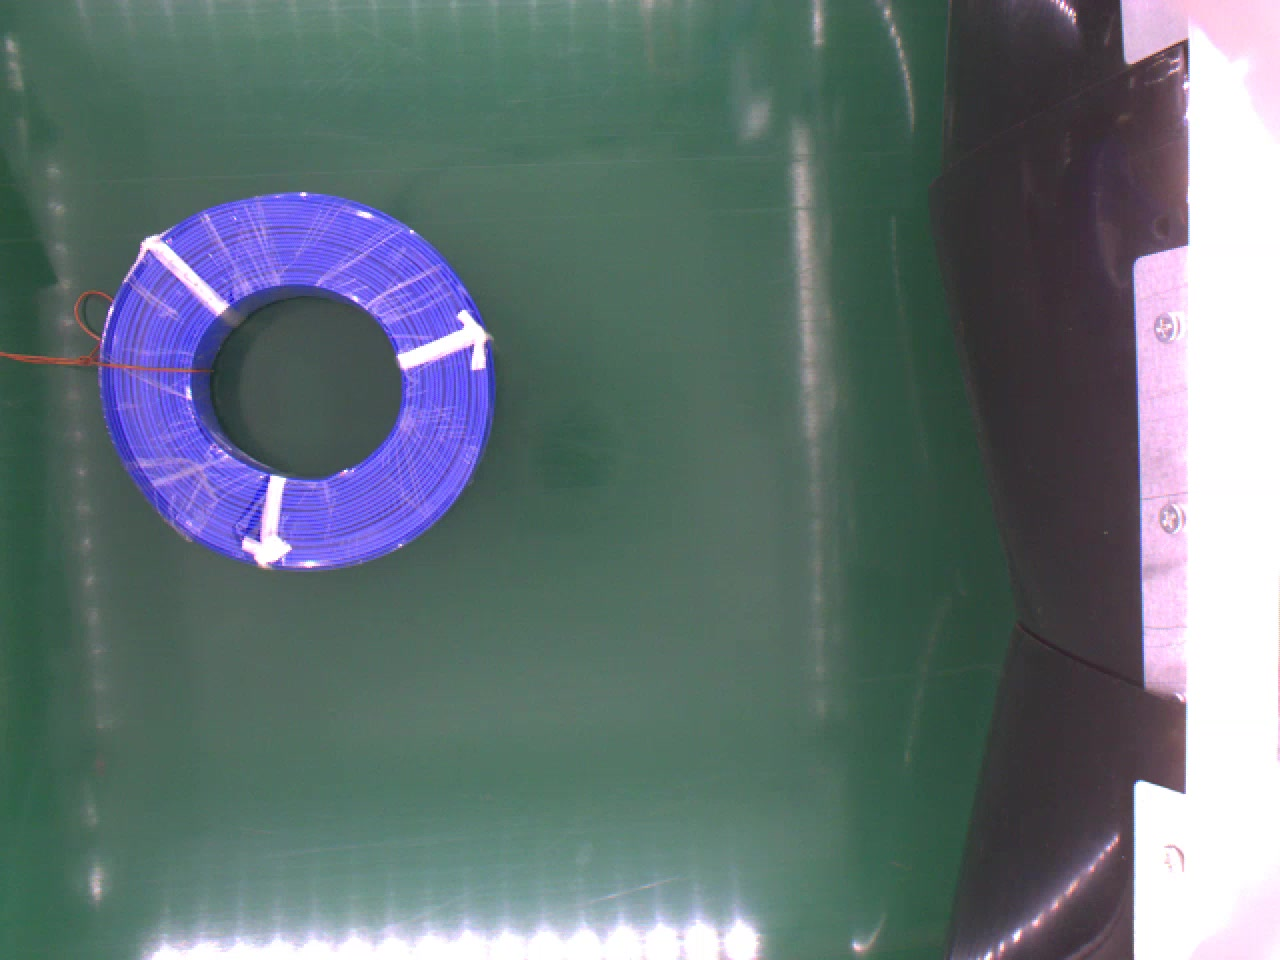blue: (104, 191, 496, 564)
